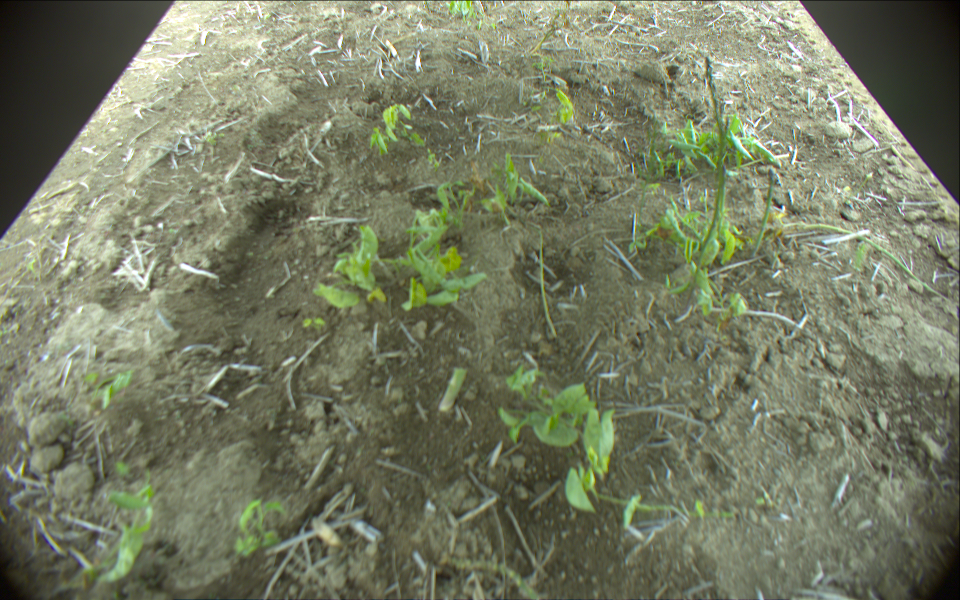aspa: (781, 221, 955, 306), (687, 54, 732, 297), (750, 168, 774, 265), (433, 364, 468, 418)
